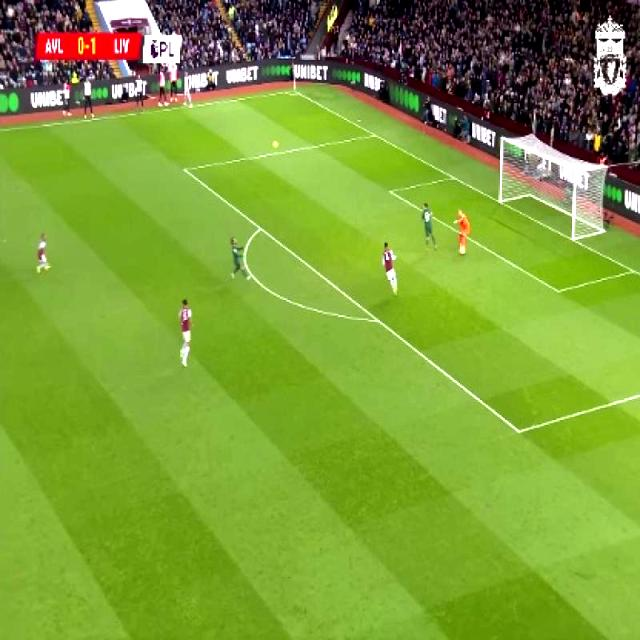bigarea_bottom_inner: (508, 417, 528, 443)
bigarea_top_inner: (177, 160, 191, 177)
bigarea_top_outter: (368, 126, 382, 142)
bottom_arc_area_intersection: (370, 309, 384, 329)
corner: (283, 85, 300, 97)
smallarea_bottom_inner: (549, 276, 566, 302)
smallarea_bottom_outter: (625, 260, 640, 280)
smallarea_top_inner: (383, 182, 397, 198)
smallarea_top_outter: (444, 168, 459, 185)
top_arc_area_intersection: (252, 218, 266, 236)
